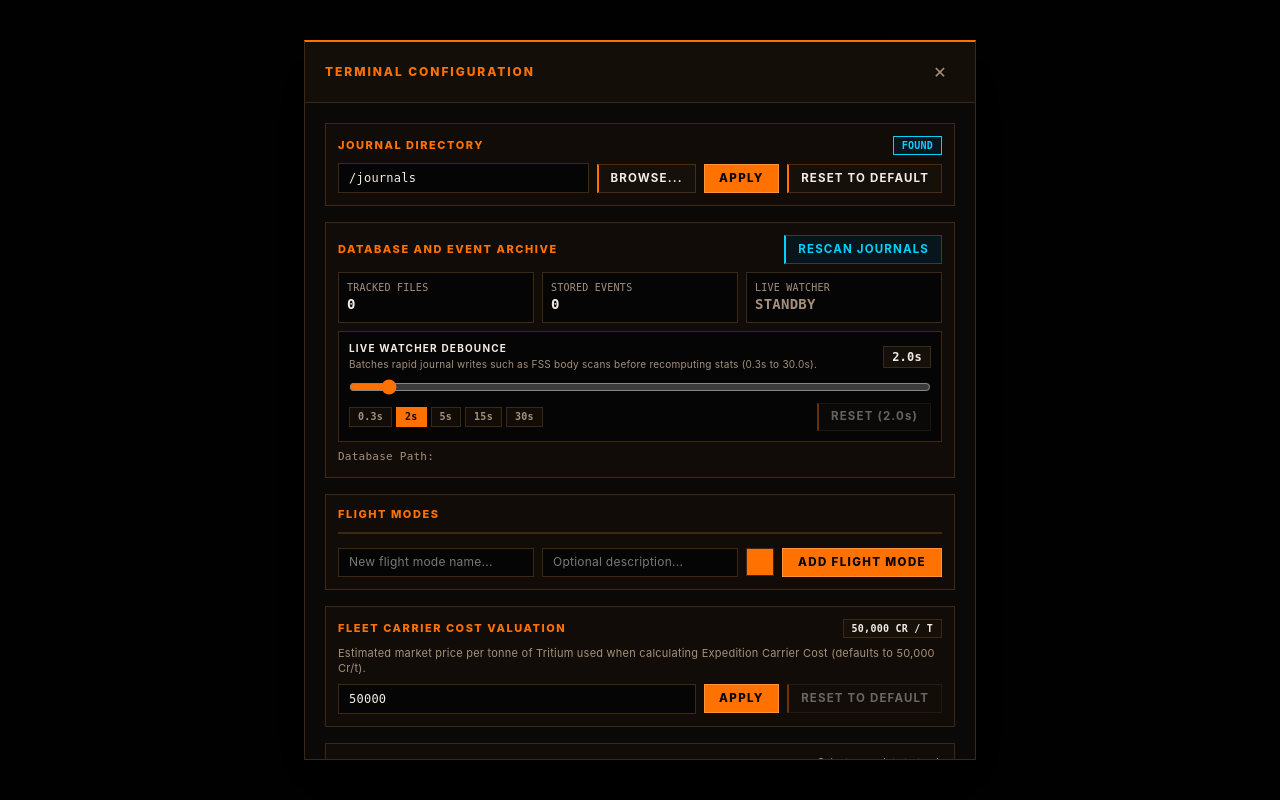
Scenario: SettingsModal › surfaces and clears error banners propagated from child configuration sections
Click the button "BROWSE..." at [646, 178], box [596,164,696,193]
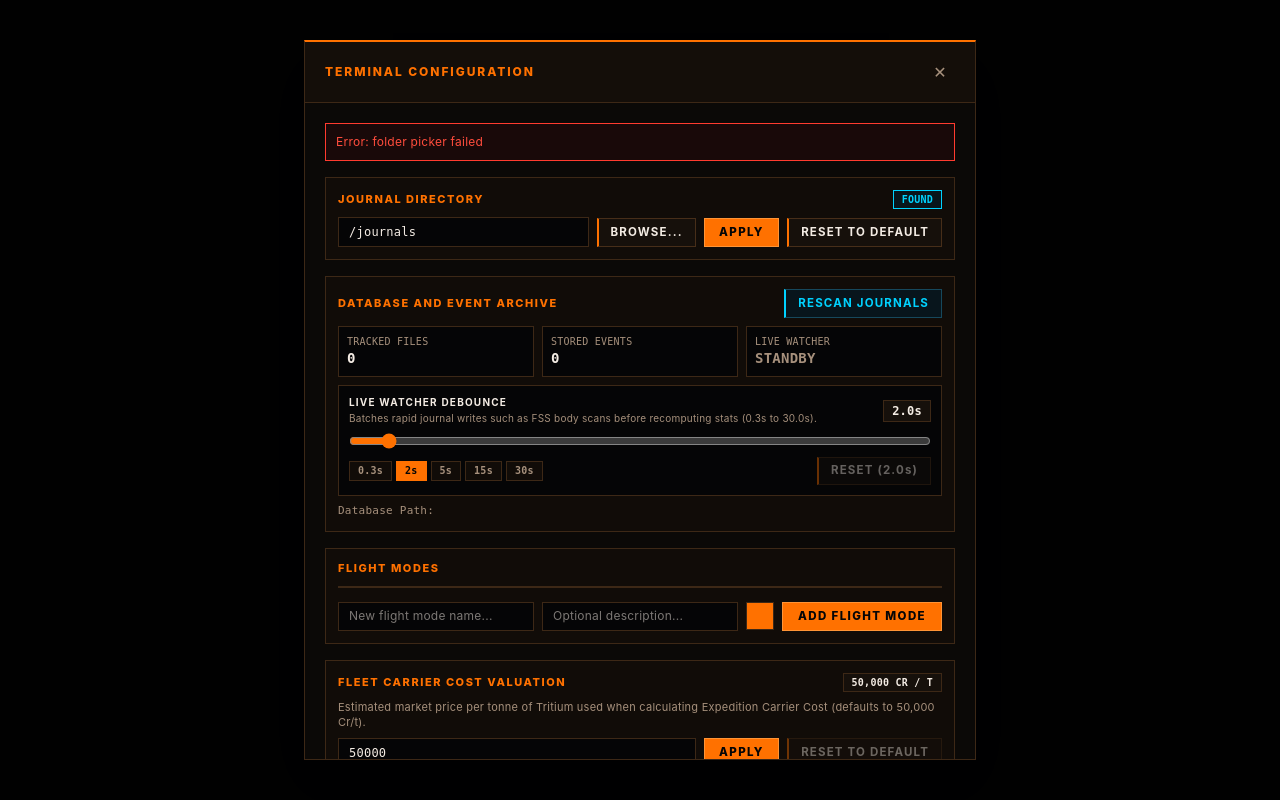
Expected: the text "folder picker failed" is shown, [336,134,483,149]
Click the button "APPLY" below "Journal Directory" at [741, 232], box [704,218,779,247]
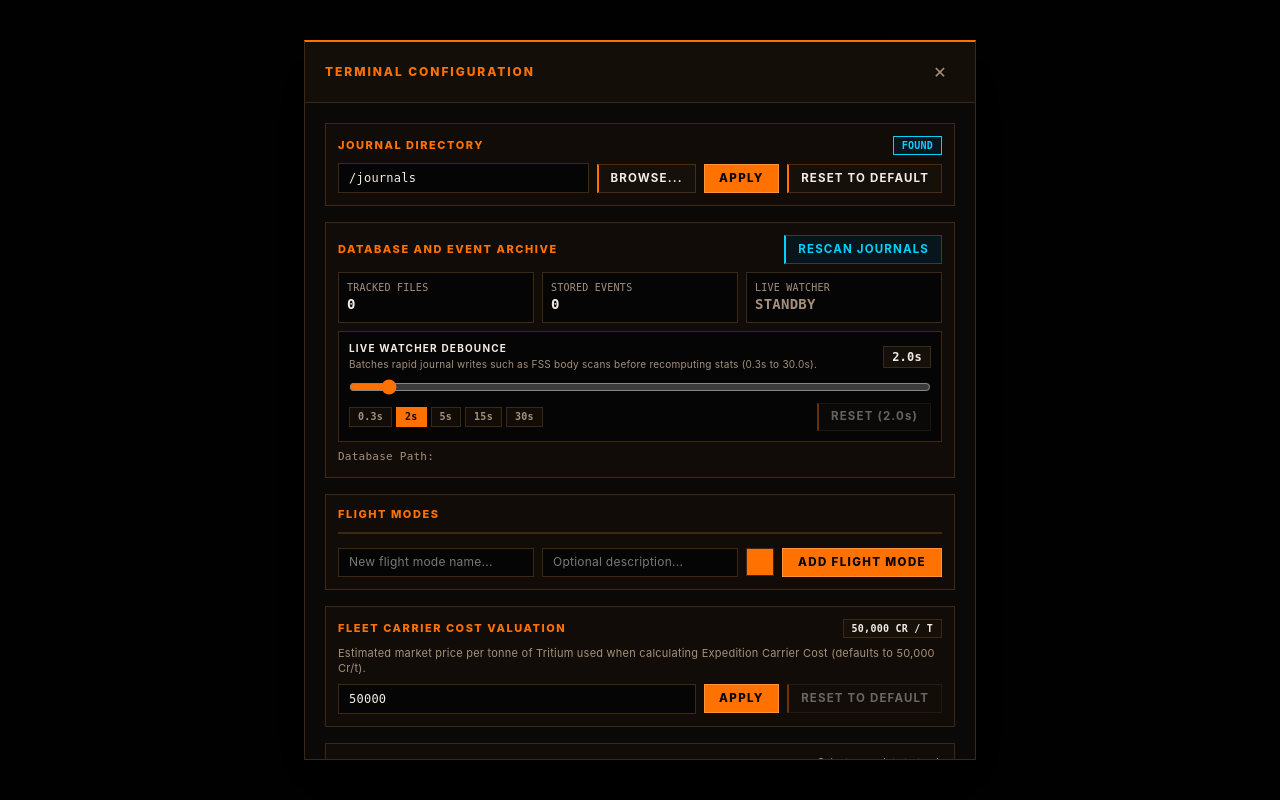
Expected: the text "folder picker failed" is gone
